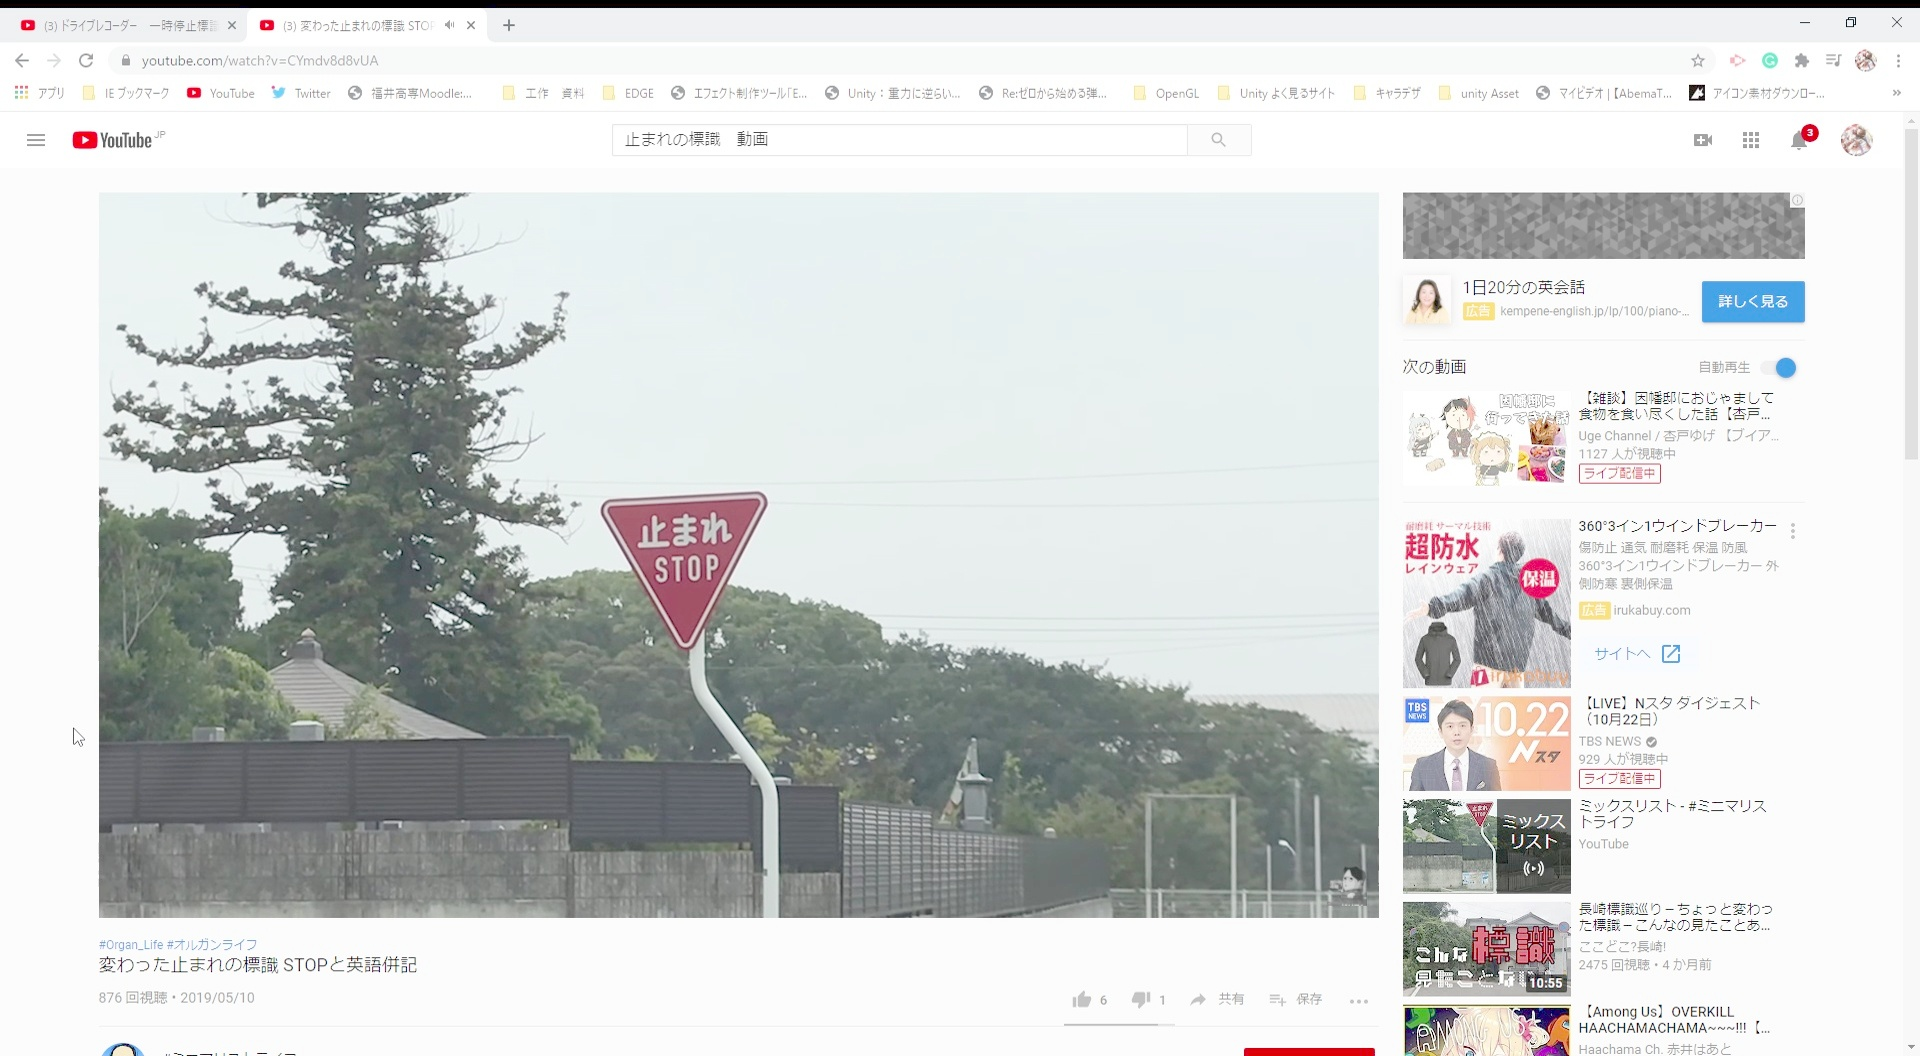Regulatory_sign_triangle: (588, 485, 793, 672)
